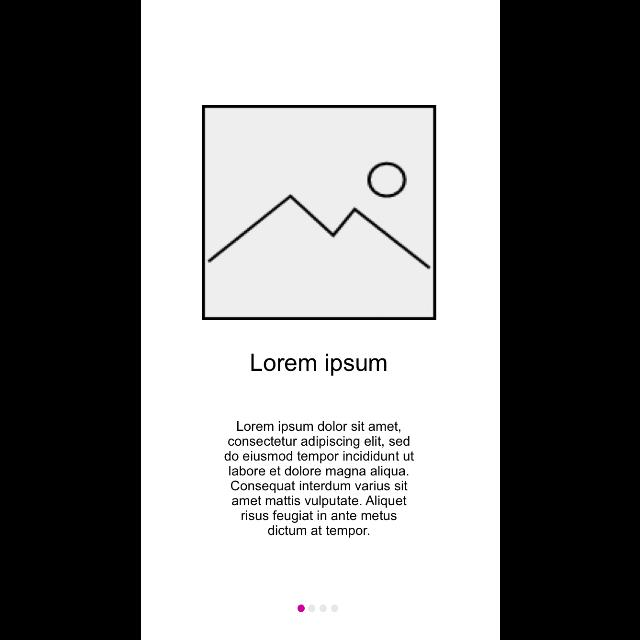image: (201, 105, 437, 321)
pageindicator: (297, 604, 339, 614)
text: (223, 422, 413, 538), (250, 352, 386, 376)
